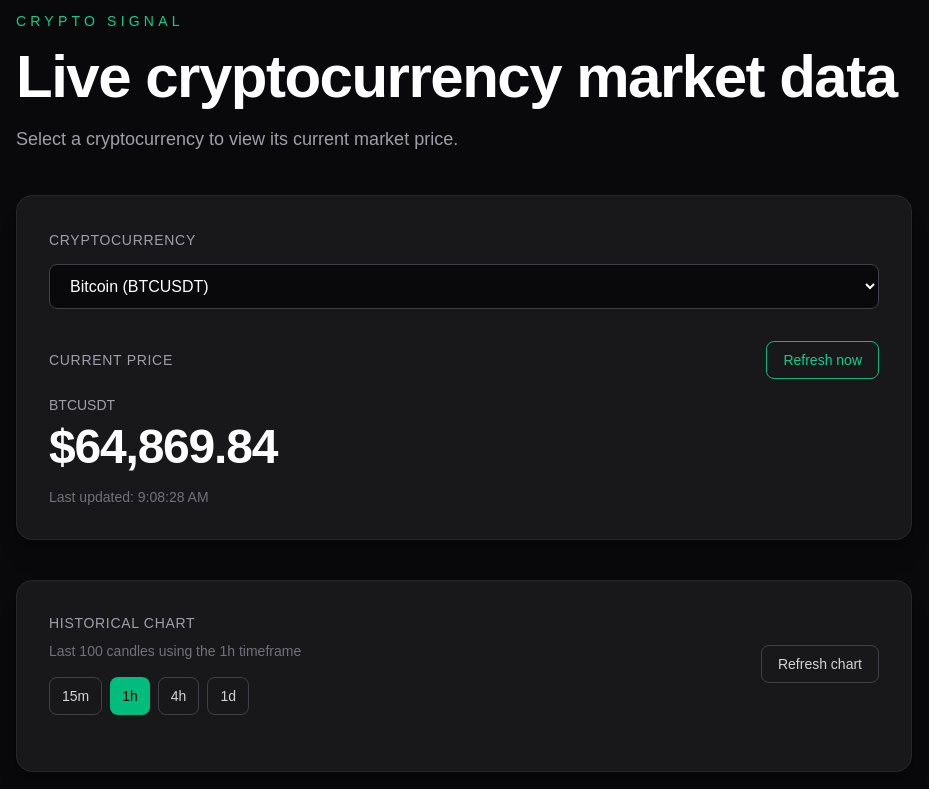
Scenario: Home page › loads Ethereum after the user changes the symbol
Check: the text "BTCUSDT" is shown, box [49,397,115,413]
Select "Ethereum (ETHUSDT)" in the dropdown labelled "Cryptocurrency" at (464, 286), box [49,264,879,309]
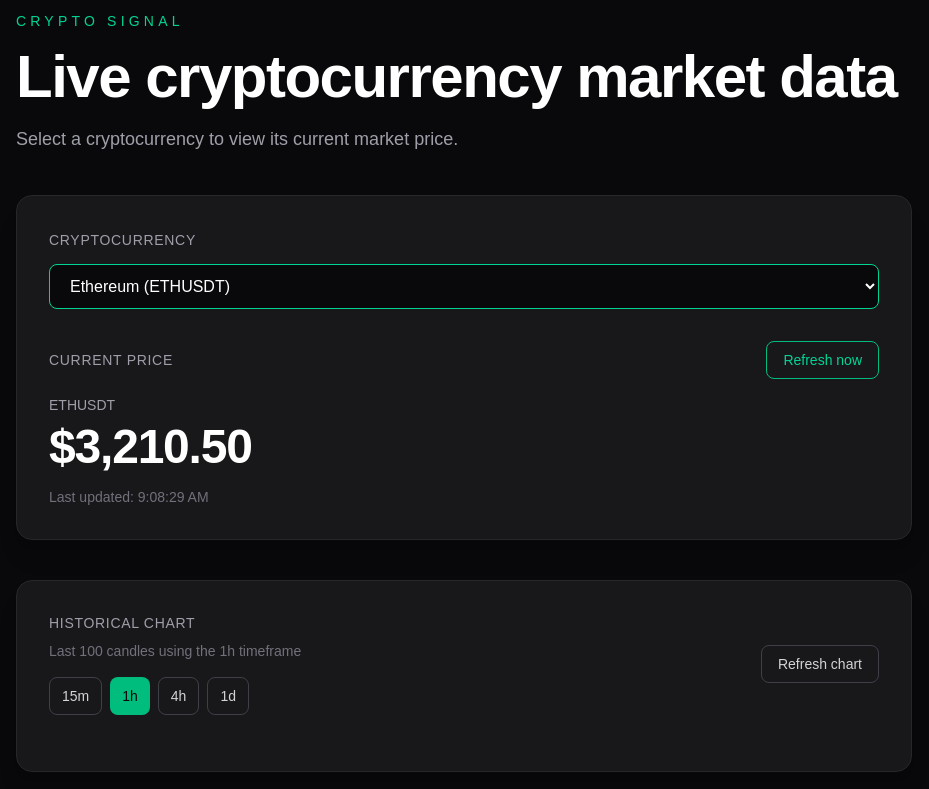
Check: the text "ETHUSDT" is shown, box [49,397,115,413]
Check: the text "$3,210.50" is shown, box [49,420,252,473]
